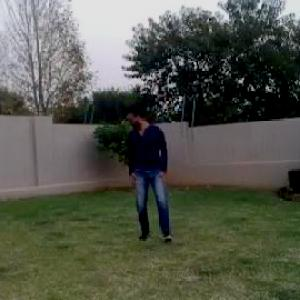follow: (129, 96, 171, 241)
